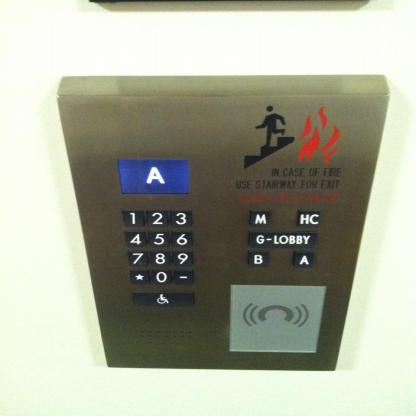-: (172, 268, 194, 285)
0: (150, 268, 172, 285)
1: (122, 210, 144, 226)
2: (145, 209, 171, 227)
3: (168, 209, 191, 227)
4: (123, 229, 149, 247)
5: (147, 230, 171, 248)
6: (170, 230, 193, 247)
7: (126, 249, 150, 267)
8: (149, 249, 172, 267)
9: (170, 249, 193, 267)
A: (292, 250, 316, 268)
B: (247, 250, 270, 268)
CH: (132, 292, 195, 306)
HC: (296, 209, 322, 227)
M: (249, 210, 271, 226)
led: (116, 158, 187, 195)
s: (128, 268, 152, 285)
text: (248, 230, 318, 248)
